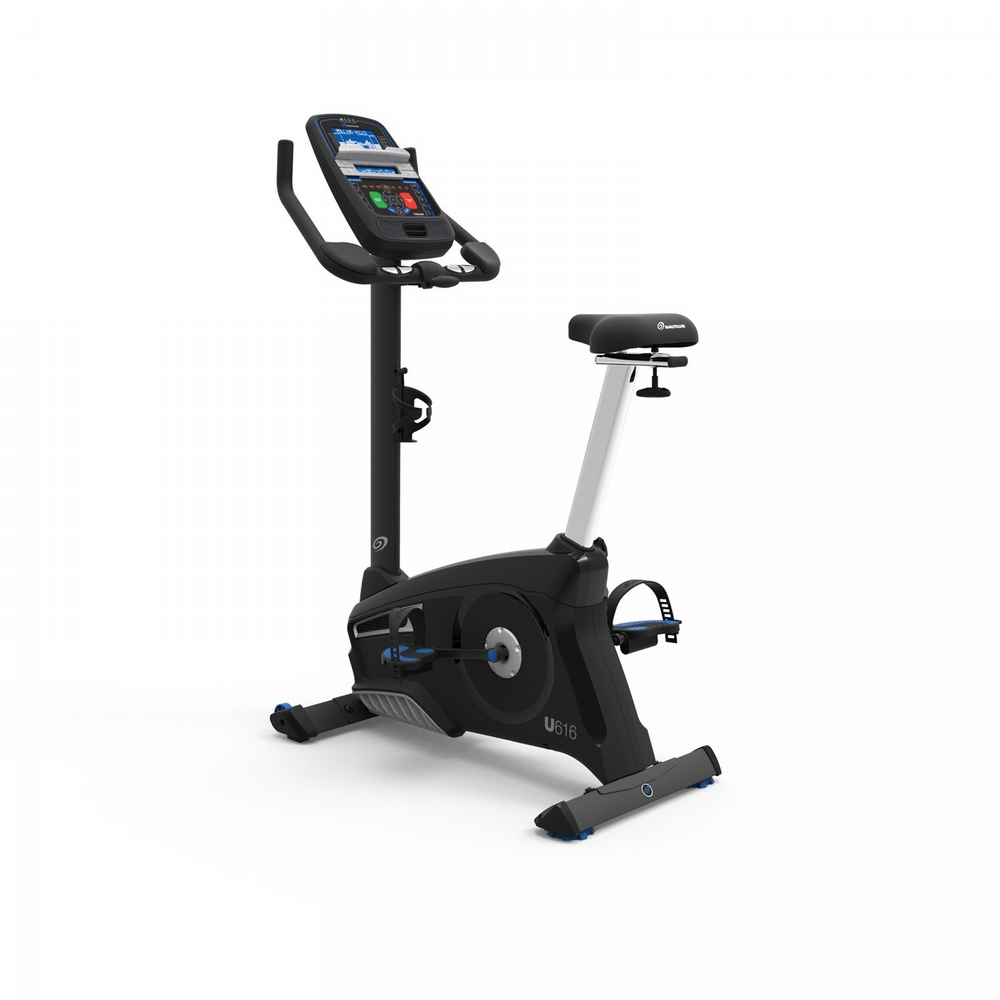gym_bike: (238, 99, 734, 859)
